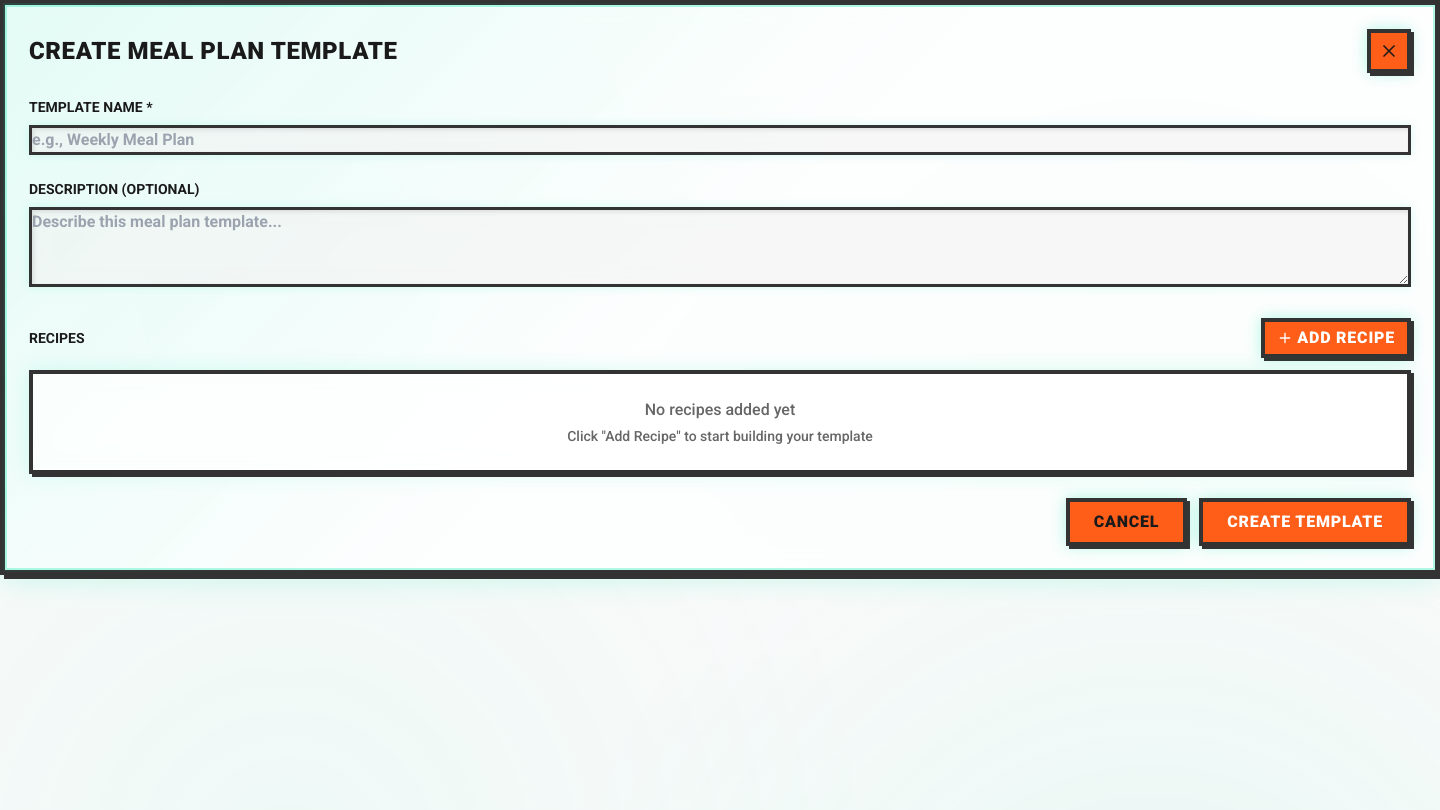
TemplateForm › adds new template item
Click the button "ADD RECIPE" at point(1336, 338), box [1261,318,1411,358]
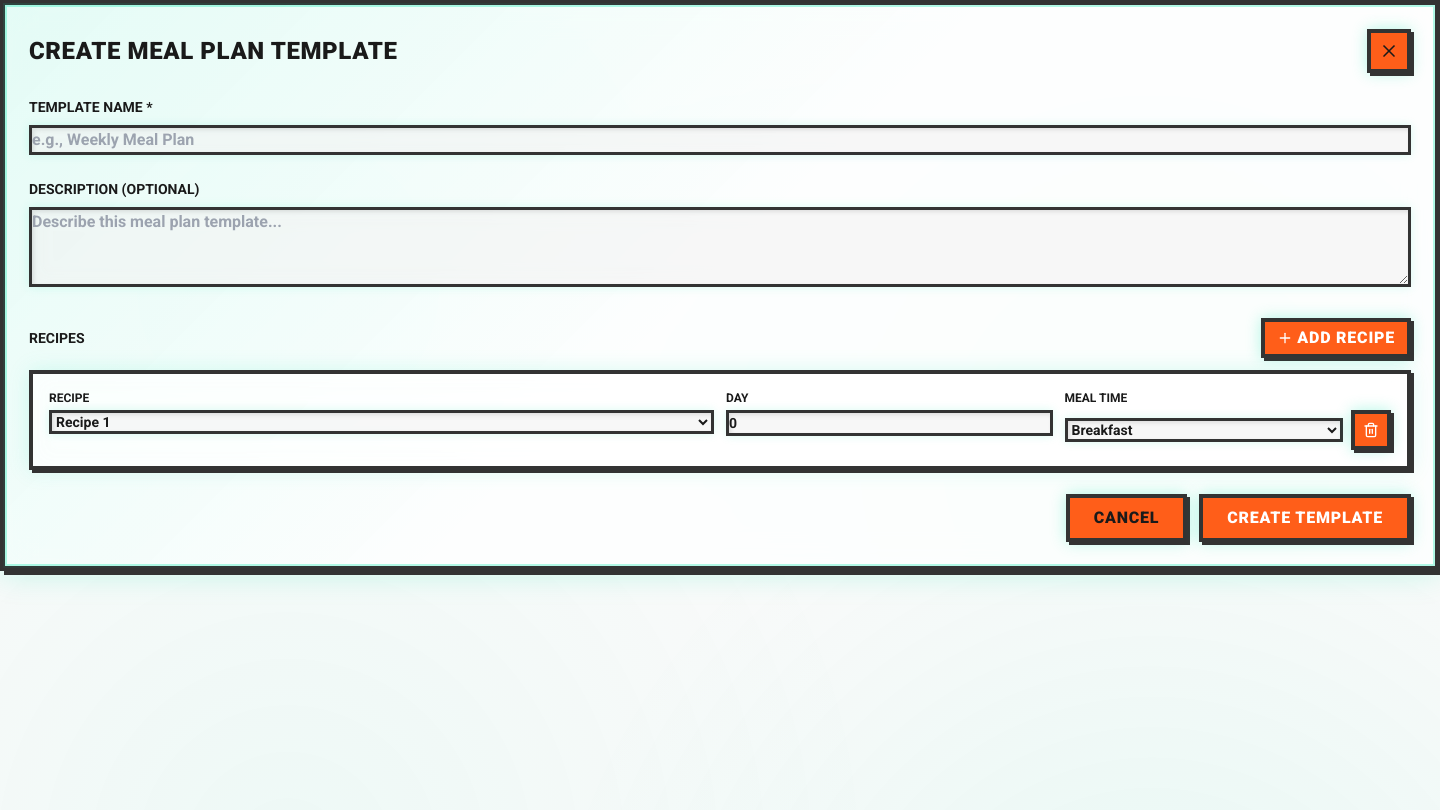
Expected: the dropdown labelled "Recipe" is shown, [49,410,714,434]
